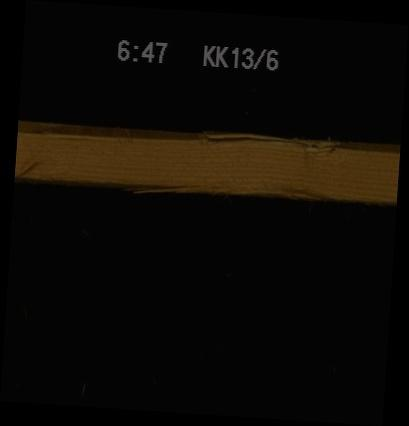wave: (17, 123, 399, 149), (16, 178, 395, 204)
